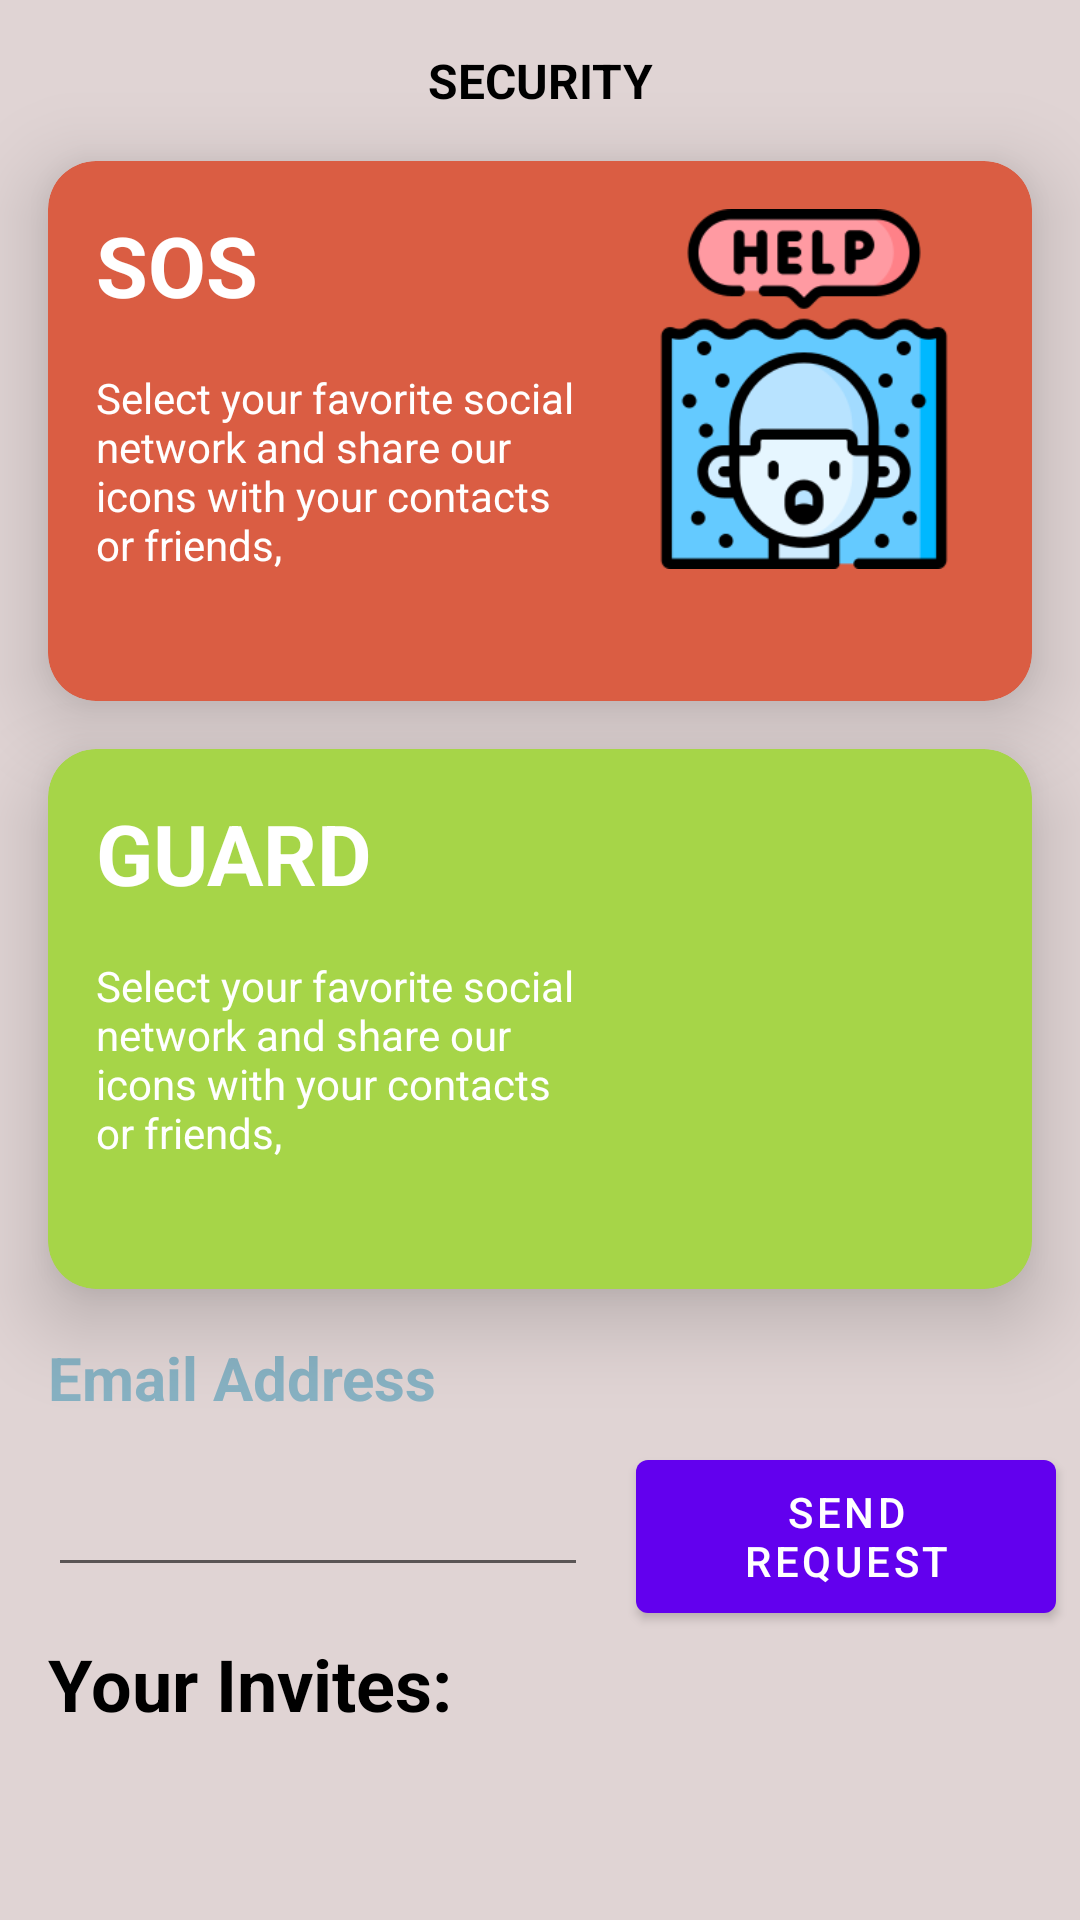

Point at icon controls on the screen. Image size 1080x1920, points as (x,y).
SOS img: (804,389)
